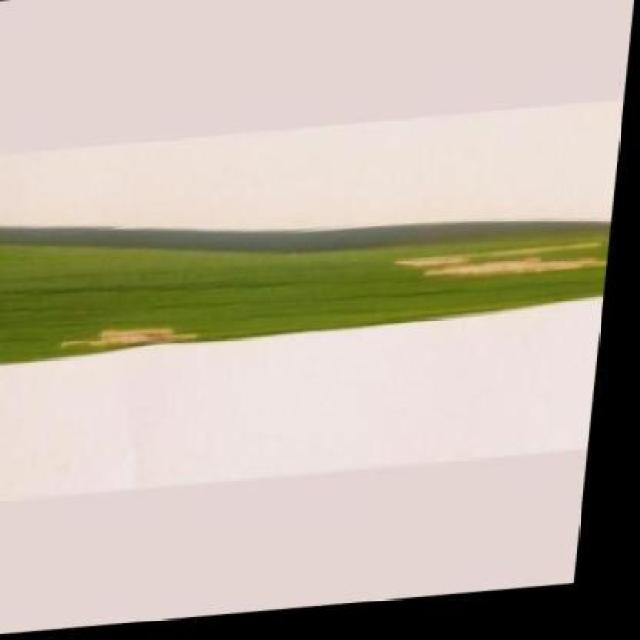Brown_Spot: (0, 189, 622, 369)
